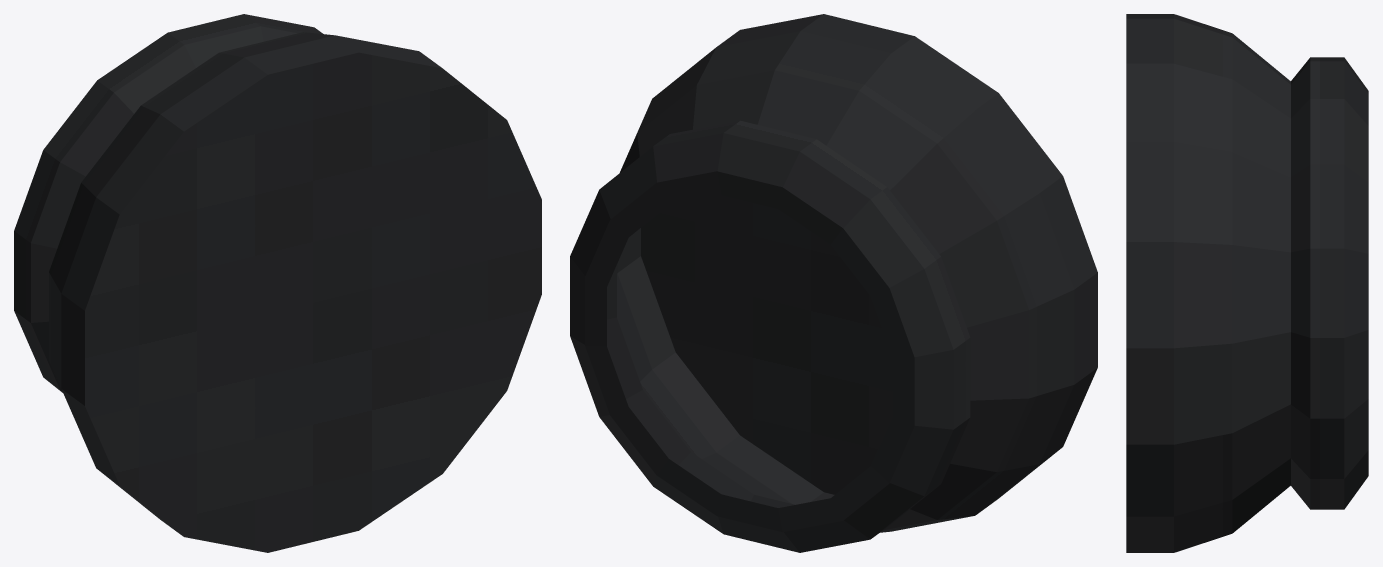
Rendered from decopole_lawestwood_tenon_s.obj.
3 views of the same model, side by side, from view 1: azimuth 30°, elevation 25°; view 2: azimuth 150°, elevation 25°; view 3: azimuth 270°, elevation 25° (orthographic).
Visible parts, largest first — view 1: decopole_lawestwood_tenon_s; view 2: decopole_lawestwood_tenon_s; view 3: decopole_lawestwood_tenon_s.
Boxes of the visible parts, x1,y1,x2,y2 form: decopole_lawestwood_tenon_s: (14,14,541,552); decopole_lawestwood_tenon_s: (570,14,1097,552); decopole_lawestwood_tenon_s: (1126,14,1368,552).
Size of the model in its own units: 0.6866 by 0.6866 by 0.3112.
